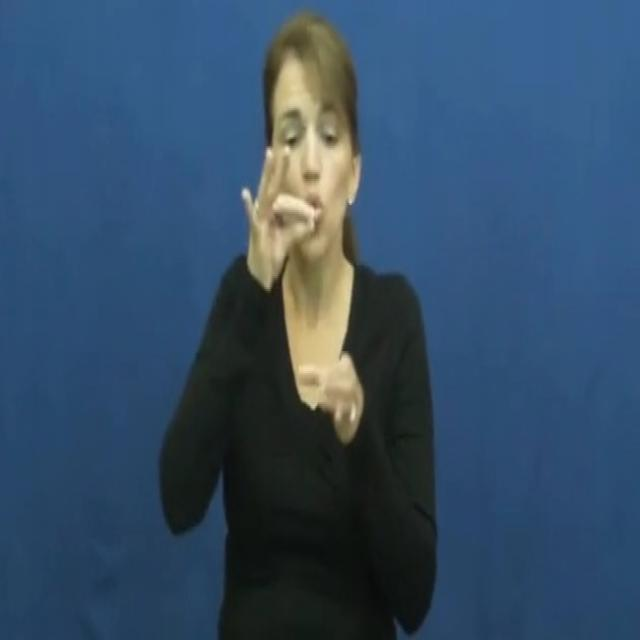straw: (236, 144, 370, 434)
